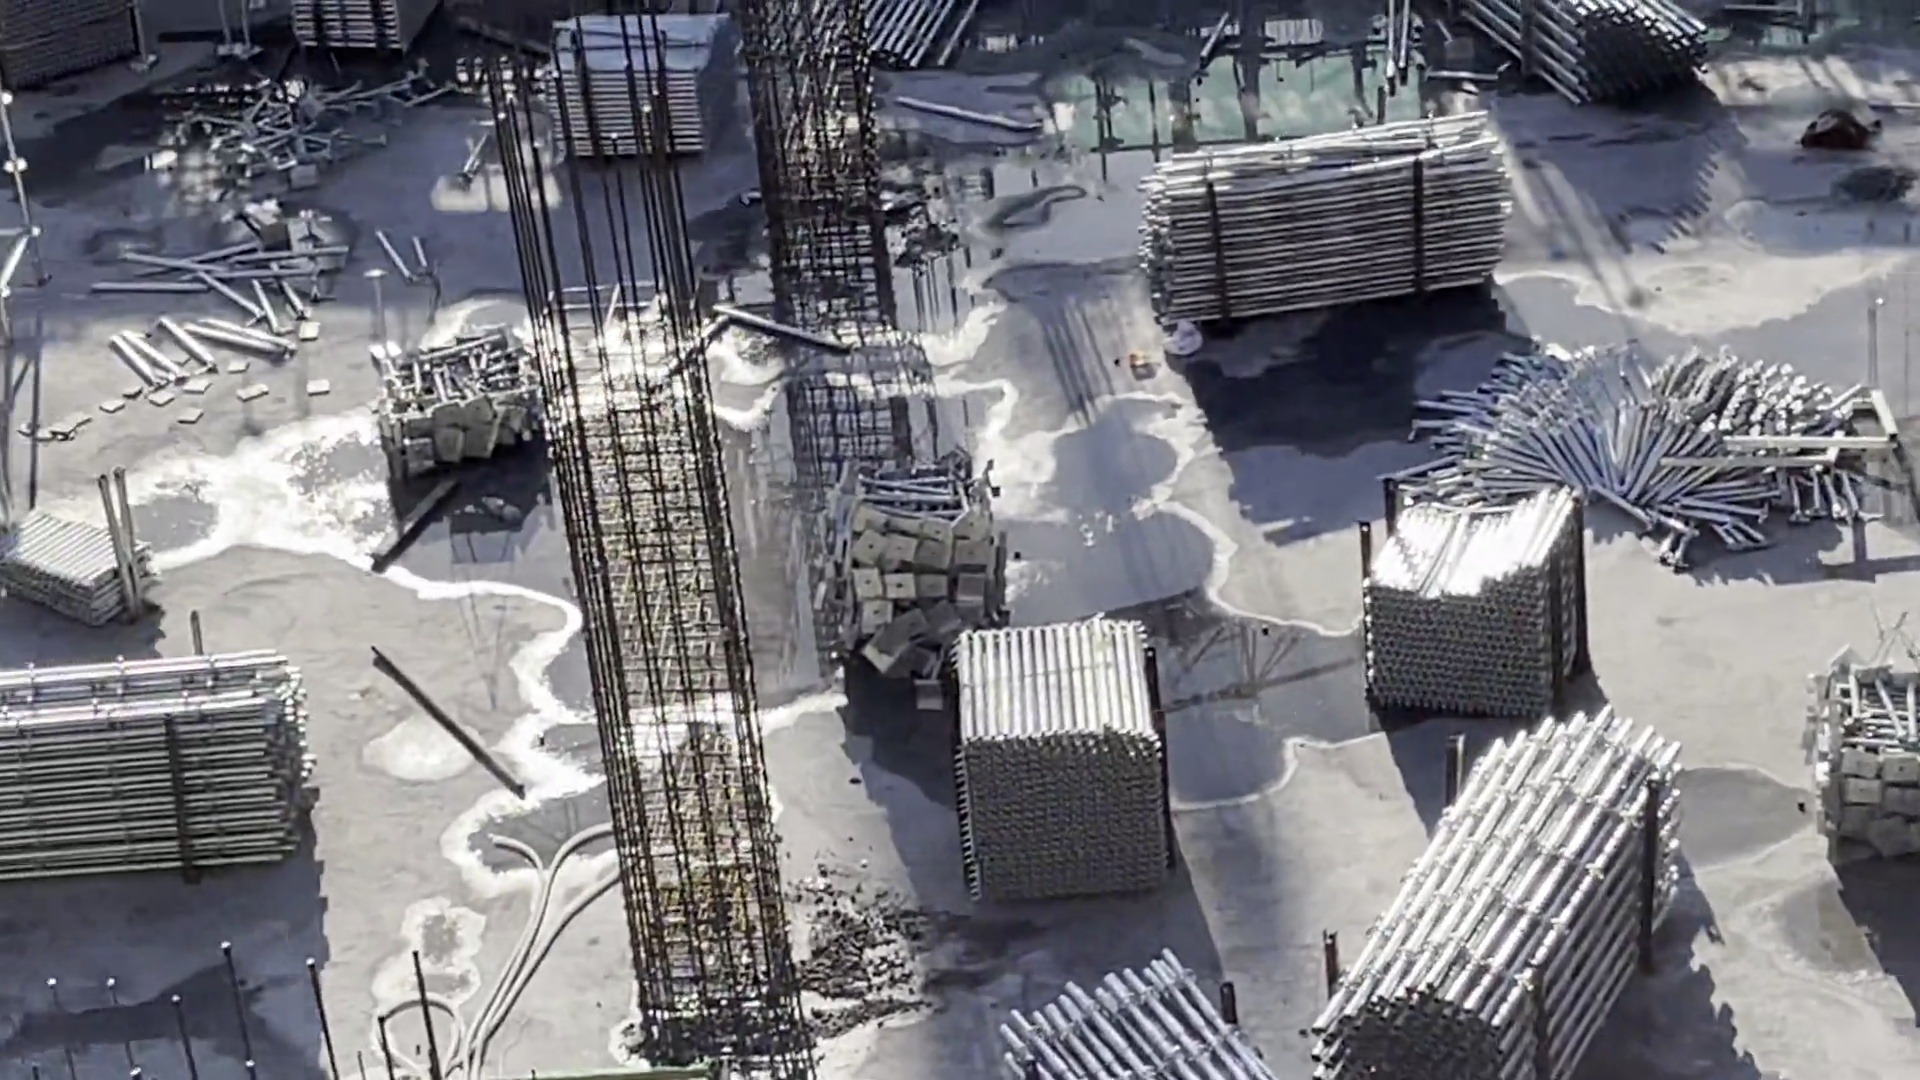scaffold: (1333, 717, 1681, 1073), (1440, 347, 1873, 541), (4, 632, 323, 876), (953, 624, 1197, 898), (1145, 131, 1505, 305), (1352, 476, 1594, 712), (820, 462, 1023, 704), (973, 945, 1296, 1080), (534, 18, 749, 160), (357, 326, 545, 464), (1498, 1, 1718, 112), (1815, 655, 1920, 858), (16, 495, 164, 632), (273, 1, 421, 55)
